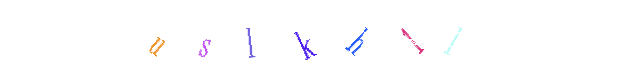1: (324, 0, 404, 80)
H: (292, 0, 372, 80)
K: (272, 0, 352, 80)
L: (242, 0, 322, 80), (371, 0, 451, 80)
S: (227, 0, 307, 80)
U: (116, 0, 196, 80)
